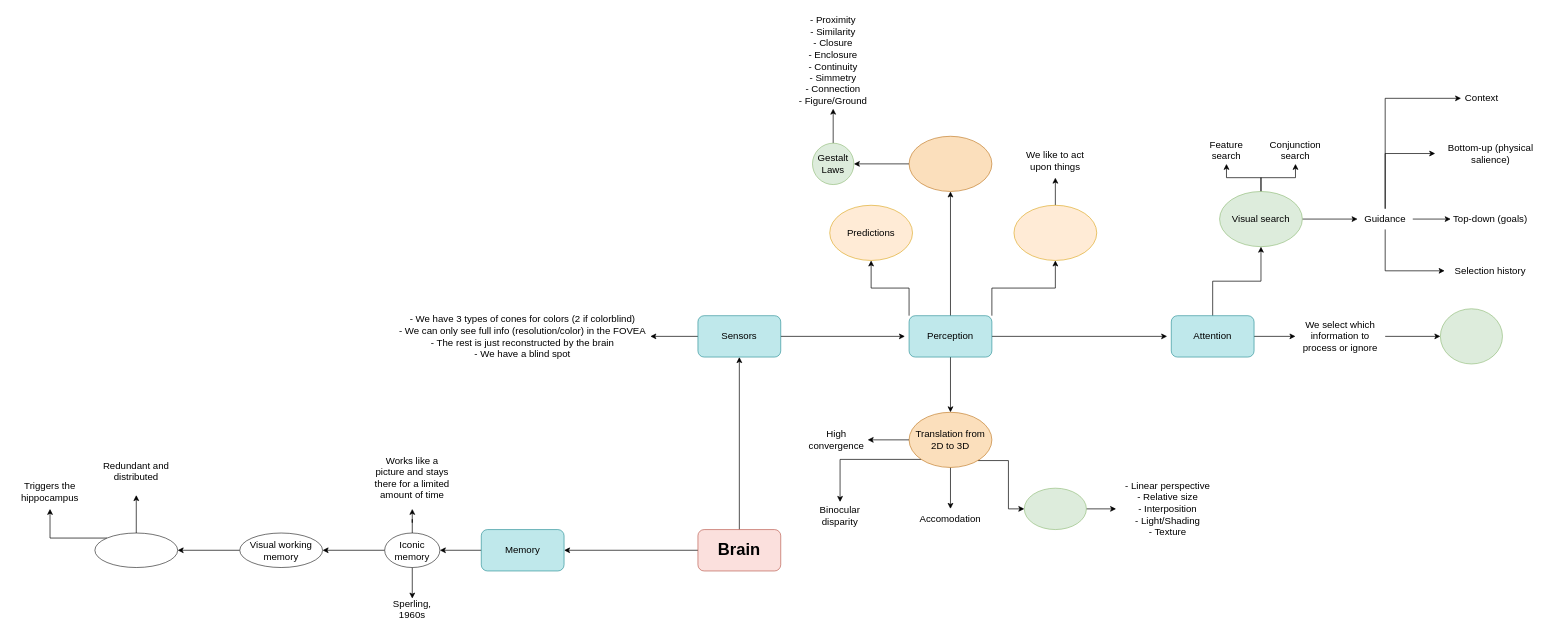
This 1557x632 diagram has some shape labels left out. Here are the shapes that lost their labels. From the top down, the centre of each, then its label:
point (950, 163): Grouping
point (1055, 232): Affordances
point (1471, 336): Filter Theory
point (1055, 508): Pictorial cues
point (136, 550): Long-term memory
